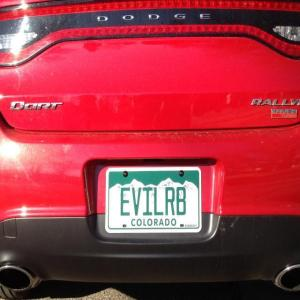Plate: (106, 168, 202, 234)
